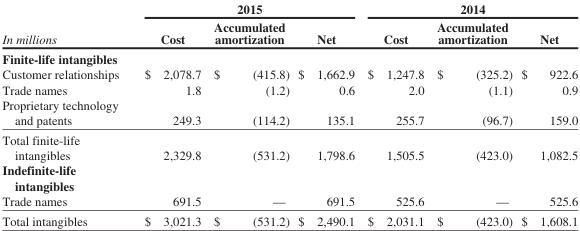table: (1, 1, 577, 227)
table column: (1, 1, 131, 227), (206, 1, 293, 227), (429, 1, 516, 227), (131, 1, 206, 227), (360, 1, 429, 227), (293, 1, 360, 227), (516, 1, 577, 227)
table column header: (1, 1, 577, 48)
table projected row header: (1, 162, 577, 192), (1, 48, 577, 66)
table row: (1, 96, 577, 129), (1, 129, 577, 162), (1, 17, 577, 48), (1, 162, 577, 192), (1, 48, 577, 66), (1, 192, 577, 210), (1, 210, 577, 227), (1, 1, 577, 17), (1, 66, 577, 81), (1, 81, 577, 96)
table spanning cell: (1, 1, 131, 48), (131, 1, 360, 17), (360, 1, 577, 17)
